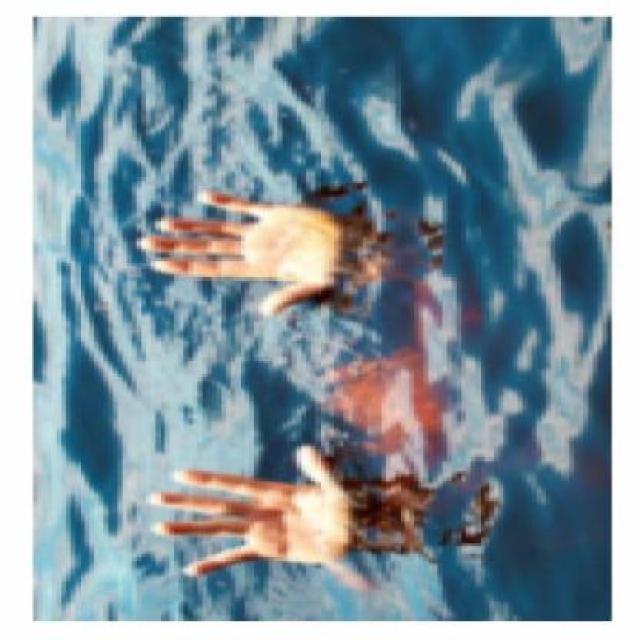drowning: (33, 18, 615, 618)
